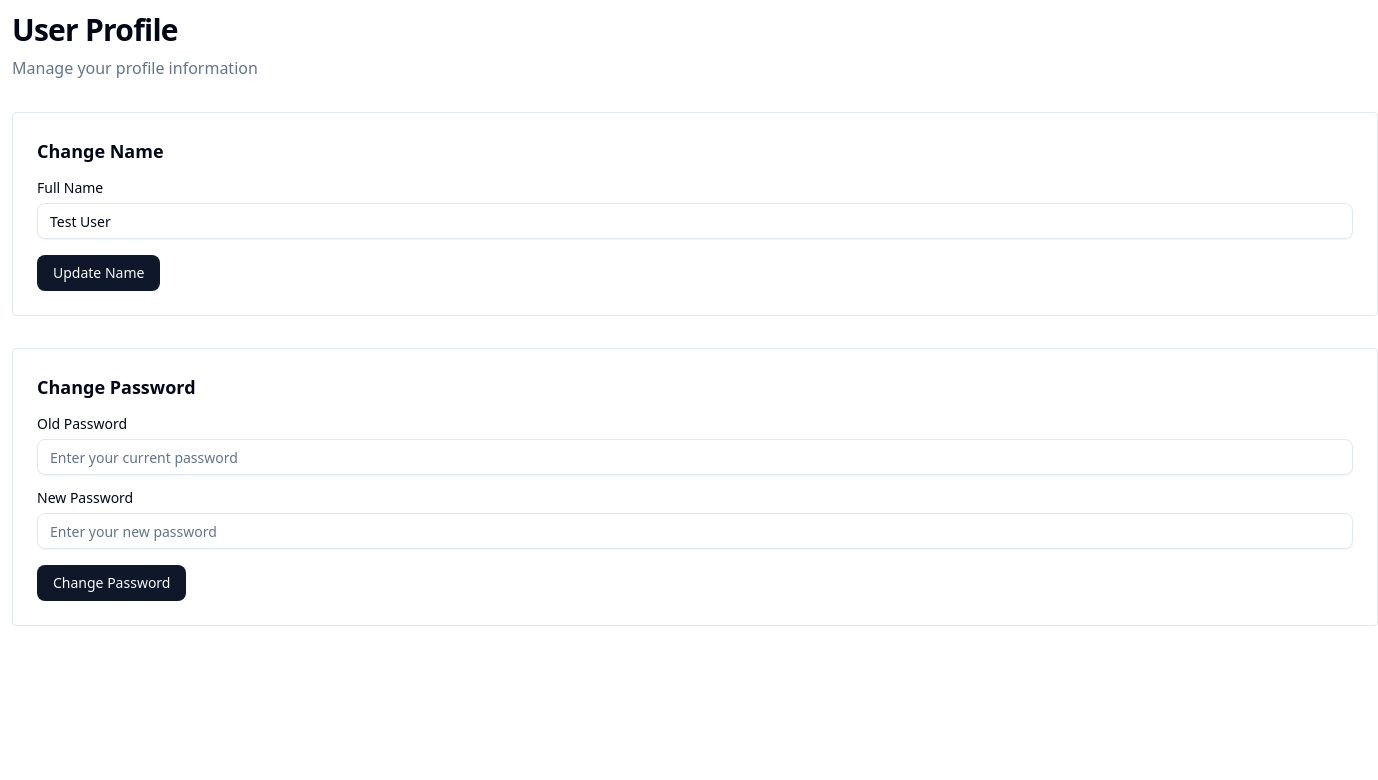
Test case: ProfilePage › shows validation error if old password is empty
Type "newpass123" into the password field labelled "New Password".
click(695, 531); type("newpass123")  # box [37,513,1353,549]
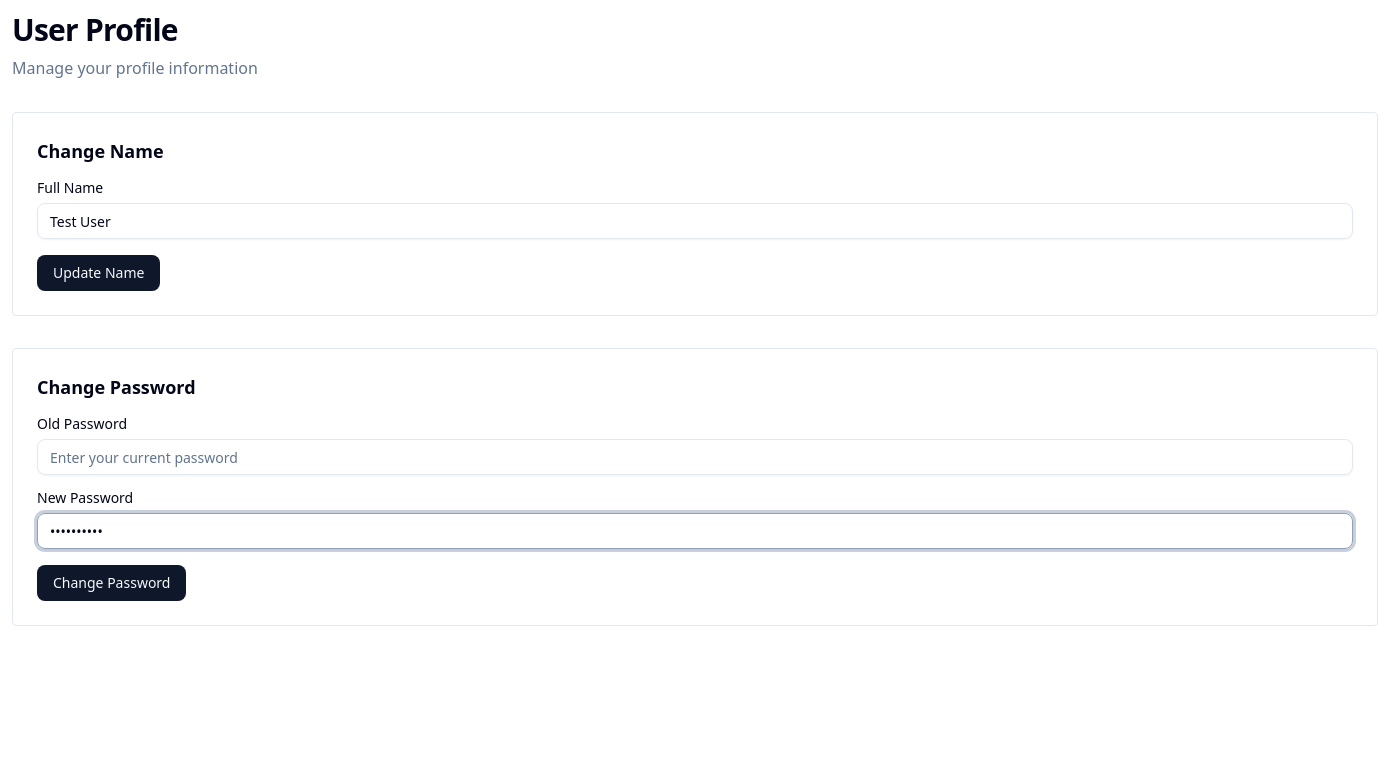
Click the button "Change Password".
click(112, 583)  # box [37,565,186,601]
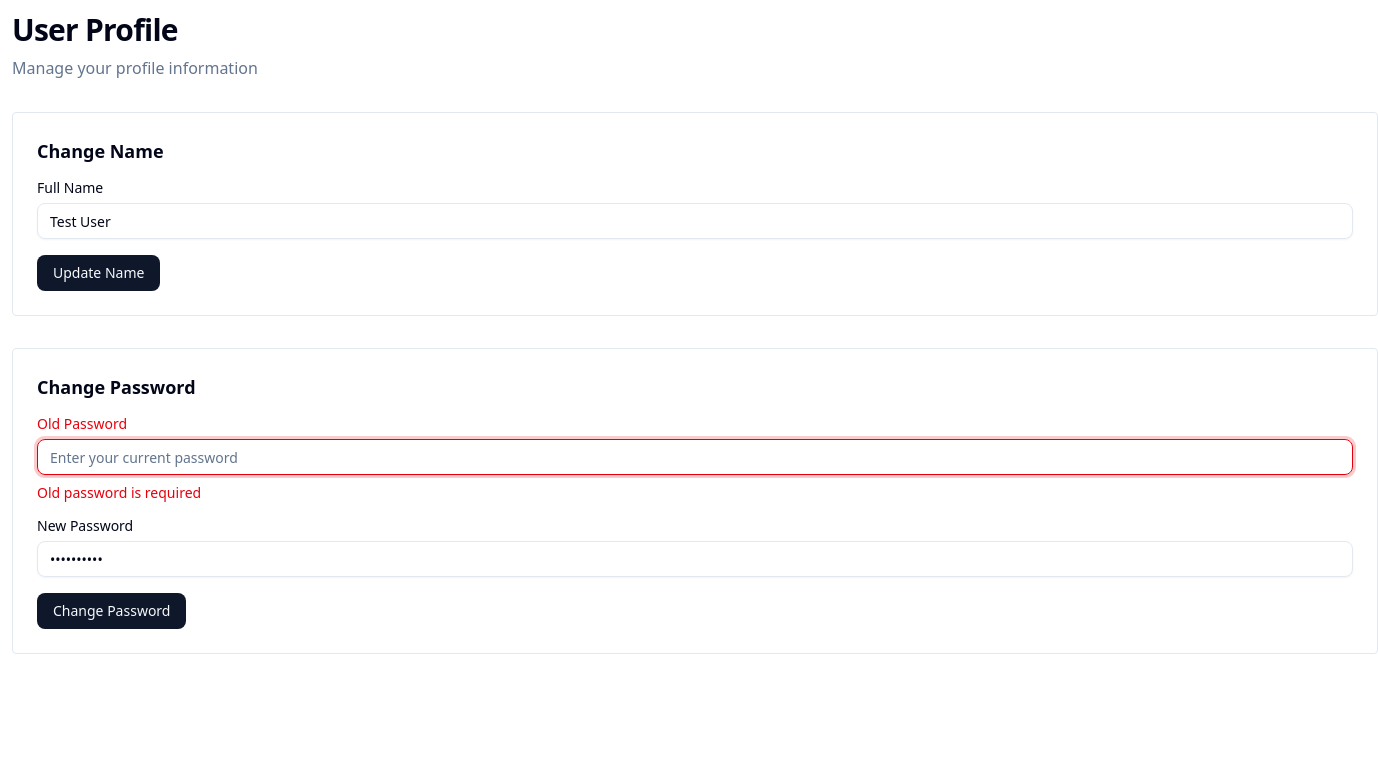
Expected: the text "Old password is required" is shown, [37,483,201,502]
